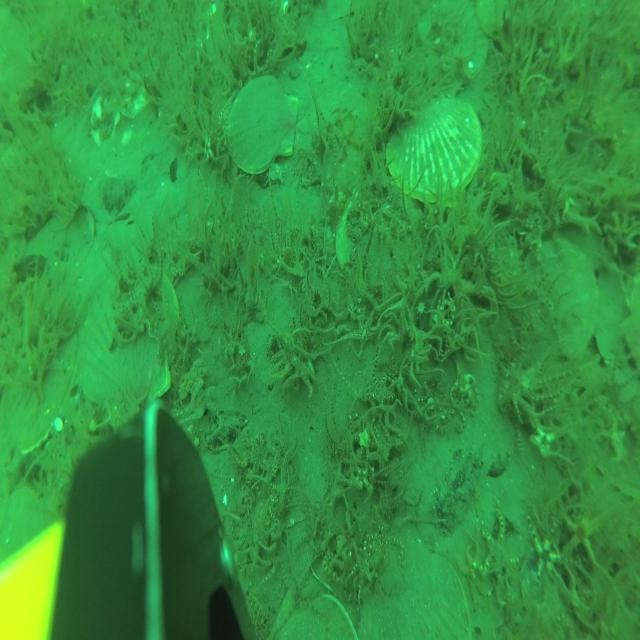scallop: (74, 261, 180, 426), (384, 96, 482, 193), (531, 238, 598, 351), (226, 73, 298, 174)
